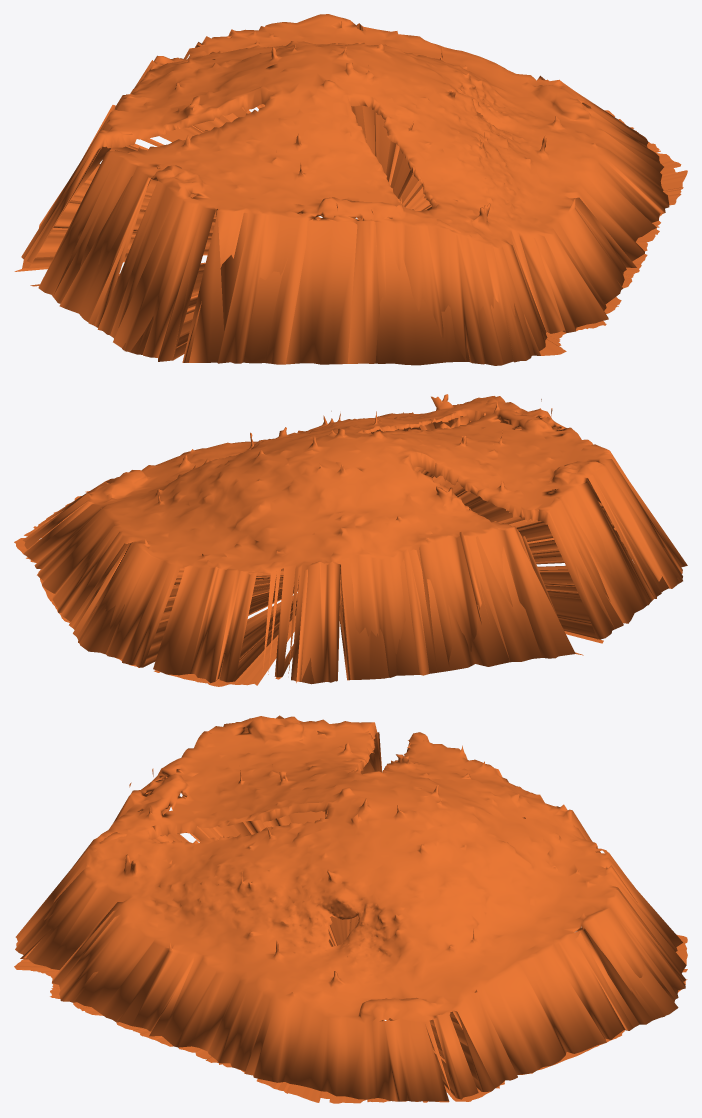
File: TumuloPerZonaTrinceeSUPERMOD.fbx
3 renders of one model, top to bottom at view 1: azimuth 30°, elevation 25°; view 2: azimuth 150°, elevation 25°; view 3: azimuth 270°, elevation 25°, orthographic. The views are drawn at different scales.
Parts seen in each view (by area): view 1: Tumulo02; view 2: Tumulo02; view 3: Tumulo02.
Boxes of the visible parts, left/top/right/bottom form: Tumulo02: left=14, top=14, right=687, bottom=365; Tumulo02: left=14, top=394, right=687, bottom=686; Tumulo02: left=14, top=715, right=687, bottom=1103.
Size of the model in its own units: 3567 by 963 by 3518.
